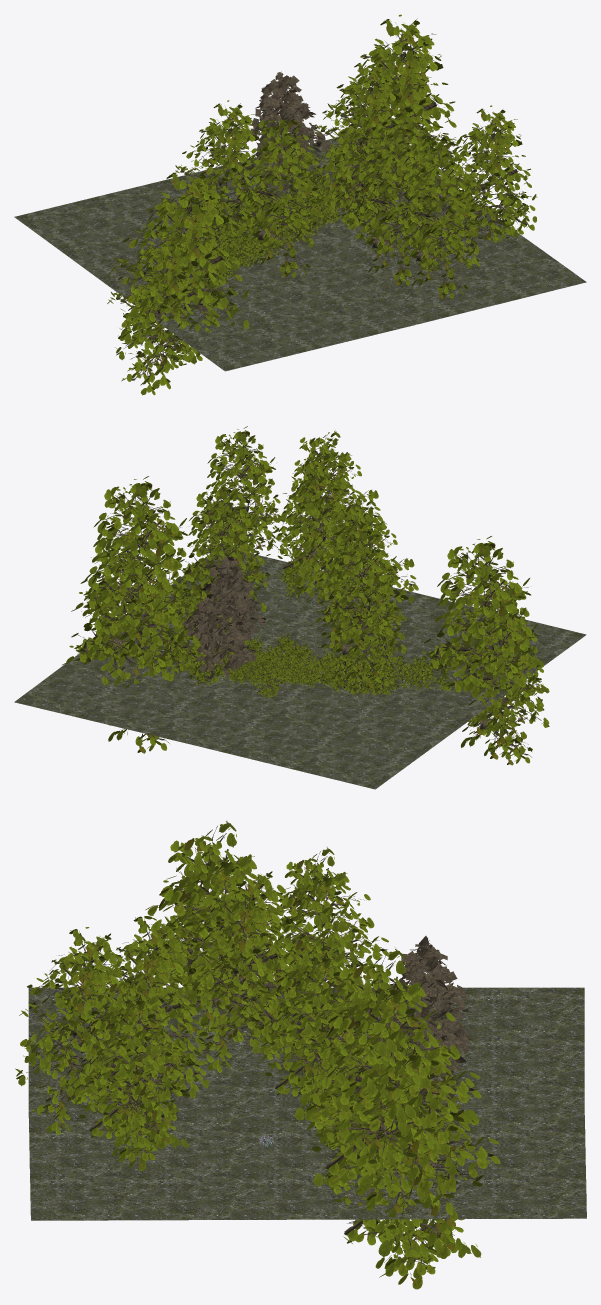
Rendered from world-mobile.glb.
3 views of the same model, one above another, from view 1: azimuth 30°, elevation 25°; view 2: azimuth 150°, elevation 25°; view 3: azimuth 270°, elevation 25° (orthographic). The views are drawn at different scales.
Visible parts, largest first — view 1: Plane, tree.005, tree.009, tree.008, tree.006, tree.007, tree.004, tree.002, 1.002, tree, tree2, tree2.007 (+2 smaller); view 2: Plane, tree.005, tree.004, tree.003, tree, tree.002, tree.007, tree2, tree.006, 1.002, tree.009, tree.008 (+12 smaller); view 3: Plane, tree.004, tree.003, tree.006, tree.009, tree.008, 1.002, tree.005, tree, tree.007, tree2, tree.002 (+1 smaller).
Part boxes in pixels (x1,y1,x2,y2): Plane: [14, 136, 586, 371]; tree.005: [109, 168, 250, 389]; tree.009: [235, 116, 328, 277]; tree.008: [393, 137, 486, 298]; tree.006: [437, 105, 537, 266]; tree.007: [349, 124, 441, 285]; tree.004: [323, 14, 463, 200]; tree.002: [107, 221, 211, 395]; 1.002: [312, 59, 413, 220]; tree: [175, 100, 274, 256]; tree2: [242, 71, 331, 190]; tree2.007: [322, 132, 397, 229]; Plane: [14, 551, 586, 789]; tree.005: [414, 536, 544, 759]; tree.004: [71, 476, 200, 679]; tree.003: [62, 533, 191, 753]; tree: [312, 525, 406, 688]; tree.002: [453, 589, 549, 765]; tree.007: [265, 453, 373, 605]; tree2: [182, 556, 271, 679]; tree.006: [191, 426, 285, 587]; 1.002: [176, 484, 266, 644]; tree.009: [306, 499, 418, 647]; tree.008: [272, 430, 382, 581]; Plane: [28, 987, 586, 1220]; tree.004: [294, 947, 481, 1214]; tree.003: [313, 1013, 500, 1289]; tree.006: [66, 970, 202, 1171]; tree.009: [181, 864, 306, 1072]; tree.008: [15, 927, 147, 1134]; 1.002: [252, 928, 386, 1125]; tree.005: [131, 820, 303, 1038]; tree: [258, 847, 389, 1040]; tree.007: [80, 914, 216, 1122]; tree2: [371, 936, 473, 1108]; tree.002: [165, 883, 275, 1014].
Bounding box in the file's own units: 114 × 70.11 × 105.
Materials: 7 (7 with a texture image).
